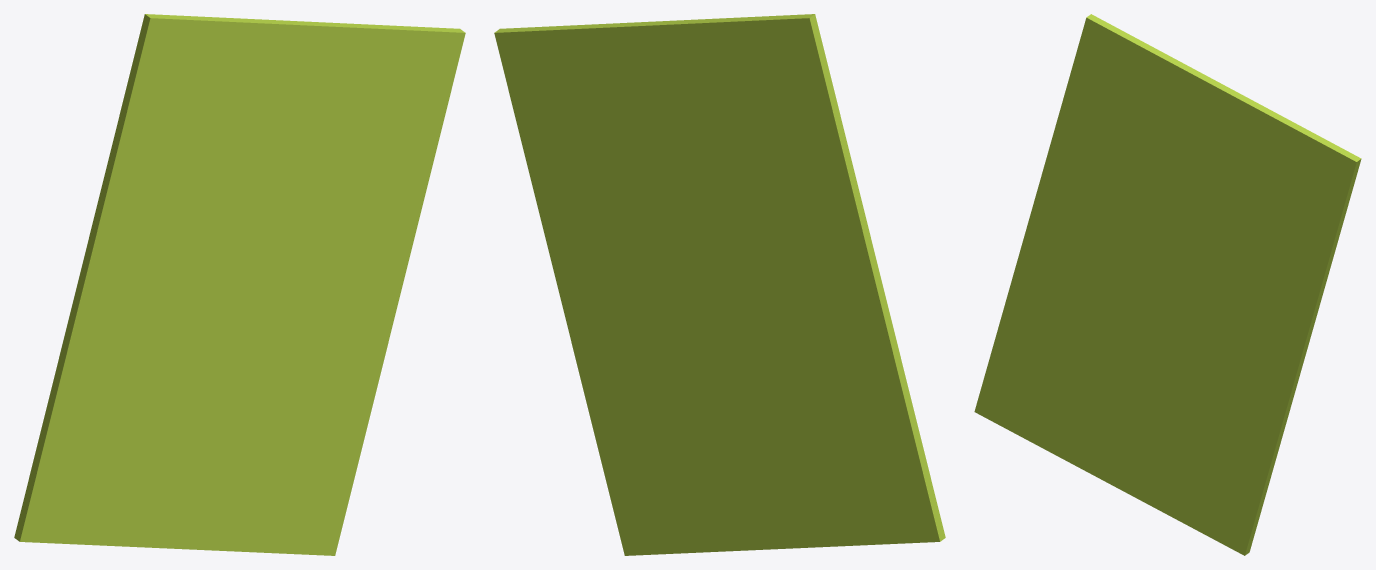
The picture shows the model from 3 angles, left to right: view 1: azimuth 30°, elevation 25°; view 2: azimuth 150°, elevation 25°; view 3: azimuth 330°, elevation 25°; orthographic projection. The views are drawn at different scales.
Parts seen in each view (by area): view 1: osm-way27917482-F1; view 2: osm-way27917482-F1; view 3: osm-way27917482-F1.
Boxes of the visible parts, x1,y1,x2,y2 form: osm-way27917482-F1: (14, 14, 465, 555); osm-way27917482-F1: (494, 14, 945, 555); osm-way27917482-F1: (974, 14, 1361, 555).
Bounding box in the file's own units: 6.85 × 8.55 × 0.15.
